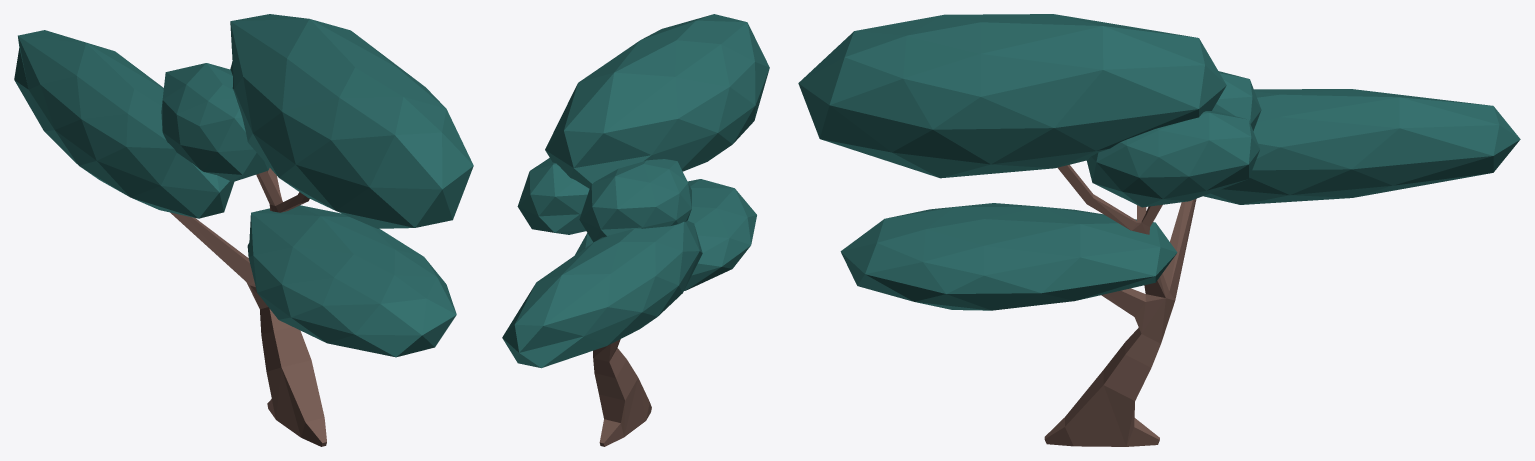
The model's file is tree1.fbx.
3 views of the same model, side by side, from view 1: azimuth 30°, elevation 25°; view 2: azimuth 150°, elevation 25°; view 3: azimuth 270°, elevation 25° (orthographic). The views are drawn at different scales.
Visible parts, largest first — view 1: tree1; view 2: tree1; view 3: tree1.
Boxes of the visible parts, x1=… form: tree1: x1=14, y1=14, x2=473, y2=446; tree1: x1=502, y1=14, x2=769, y2=446; tree1: x1=798, y1=14, x2=1520, y2=446.
Size of the model in its own units: 1400 by 2640 by 4073.
